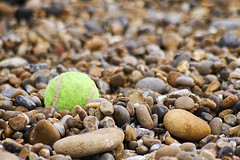tennis ball: (43, 70, 104, 119)
